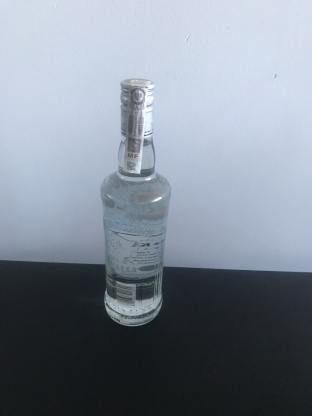nakretka: (118, 75, 156, 140)
